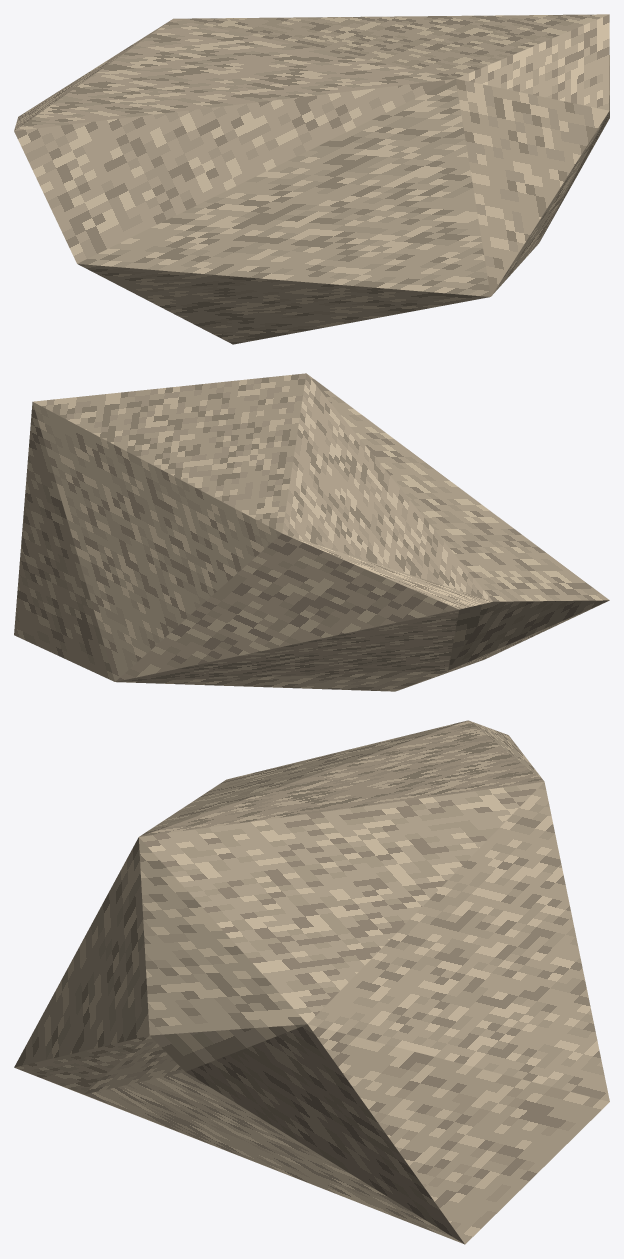
Rendered from chunk_feldspar.glb.
The picture shows the model from 3 angles, top to bottom: view 1: azimuth 30°, elevation 25°; view 2: azimuth 150°, elevation 25°; view 3: azimuth 270°, elevation 25°; orthographic projection. The views are drawn at different scales.
Visible parts, largest first — view 1: block_rough fragment; view 2: block_rough fragment; view 3: block_rough fragment.
Boxes of the visible parts, <box> form: block_rough fragment: <box>14,14,609,344</box>; block_rough fragment: <box>14,373,609,691</box>; block_rough fragment: <box>14,720,609,1244</box>.
Size of the model in its own units: 0.1197 by 0.0468 by 0.083.
1 material, 1 textured.
